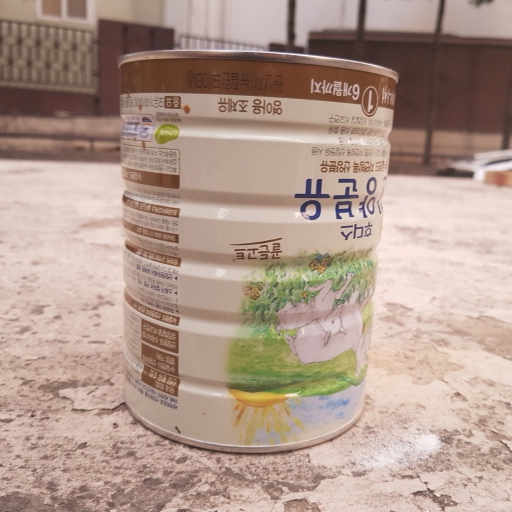Metal_1: (115, 46, 398, 450)
